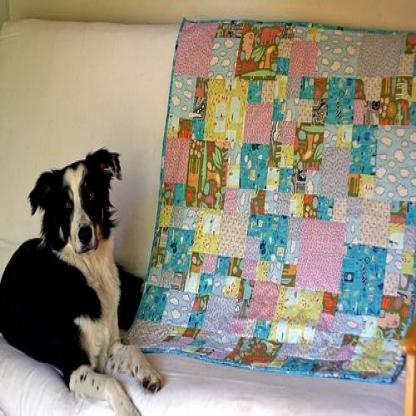Border_collie: (0, 144, 164, 413)
